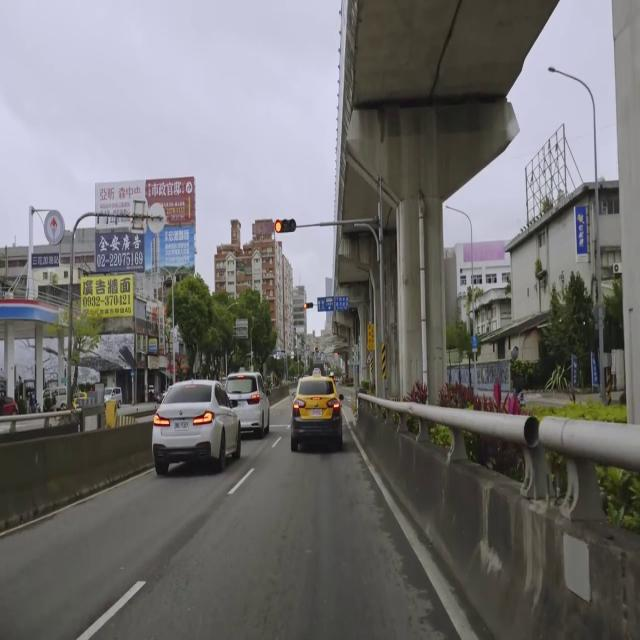red light: (274, 219, 296, 232), (303, 302, 313, 309)
